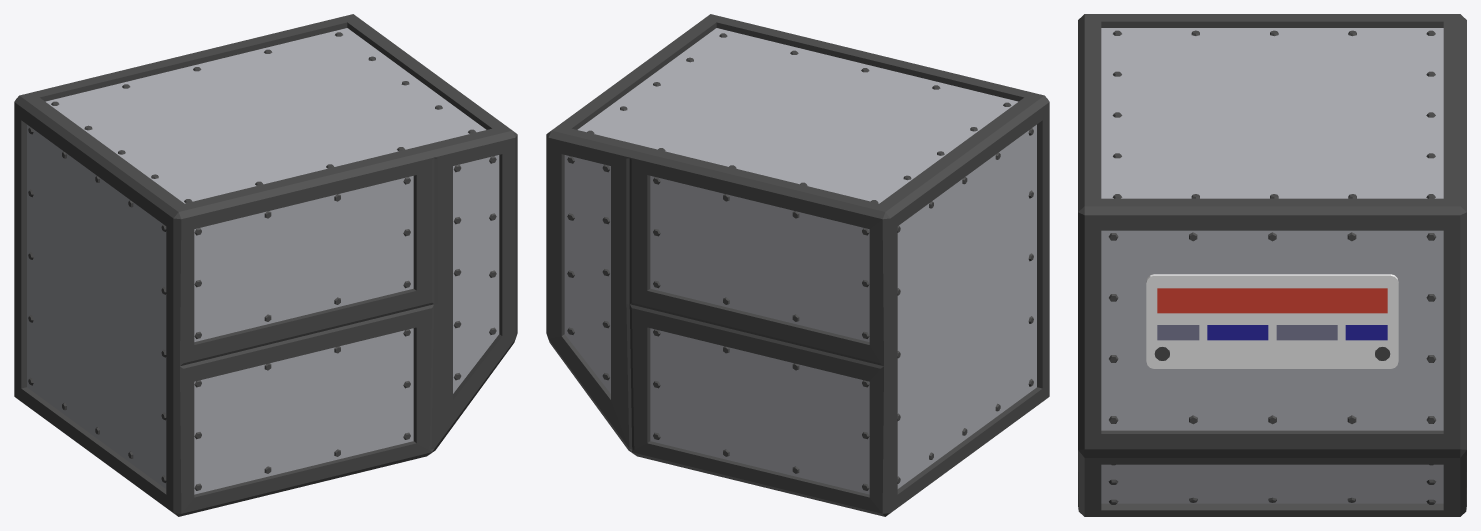
Rendered from 05_Container_AIRPORT_0.obj.
3 renders of one model, left to right at view 1: azimuth 30°, elevation 25°; view 2: azimuth 150°, elevation 25°; view 3: azimuth 270°, elevation 25°, orthographic. The views are drawn at different scales.
Parts seen in each view (by area): view 1: 05.Container_AIRPORT_0; view 2: 05.Container_AIRPORT_0; view 3: 05.Container_AIRPORT_0.
Part boxes in pixels (<box>): 05.Container_AIRPORT_0: <box>14,14,517,516</box>; 05.Container_AIRPORT_0: <box>546,14,1049,516</box>; 05.Container_AIRPORT_0: <box>1078,14,1466,516</box>.
Size of the model in its own units: 4.48 by 3.79 by 3.72.
1 material, 1 textured.
